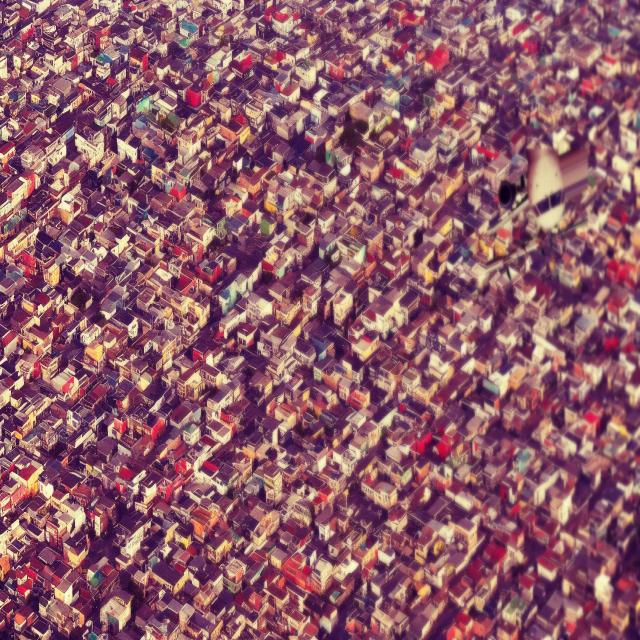airplane: (484, 144, 590, 235)
